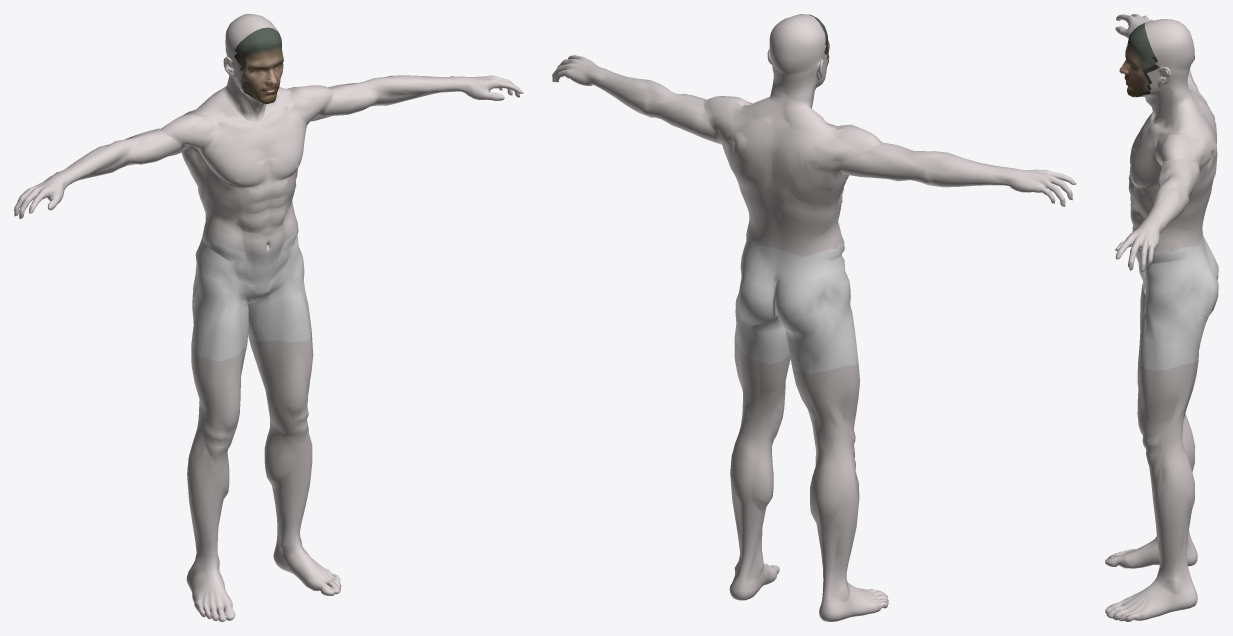
The model's file is man.gltf.
The picture shows the model from 3 angles, left to right: view 1: azimuth 30°, elevation 25°; view 2: azimuth 150°, elevation 25°; view 3: azimuth 270°, elevation 25°; orthographic projection. The views are drawn at different scales.
Visible parts, largest first — view 1: nan; view 2: nan; view 3: nan.
Boxes of the visible parts, <box> form: nan: <box>14,14,523,621</box>; nan: <box>552,14,1076,621</box>; nan: <box>1105,14,1218,621</box>.
Size of the model in its own units: 6.97 by 7.6 by 1.38.
Materials: 3 (1 with a texture image).
